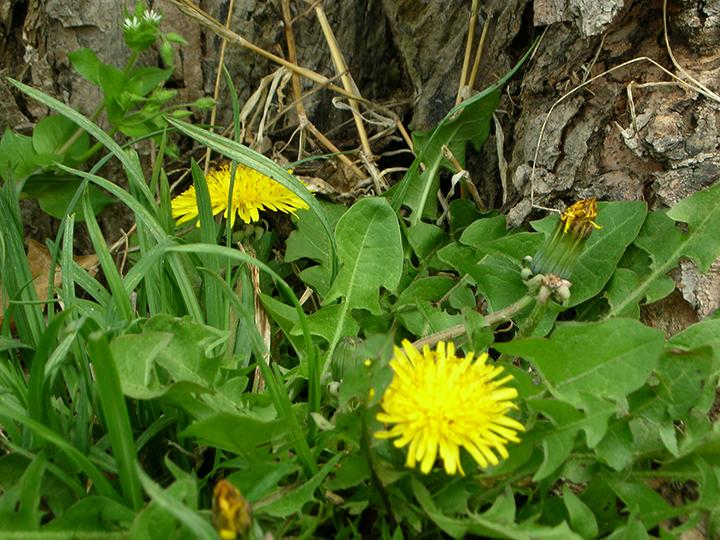dandelion yellow: (372, 340, 527, 476), (166, 159, 313, 224)
